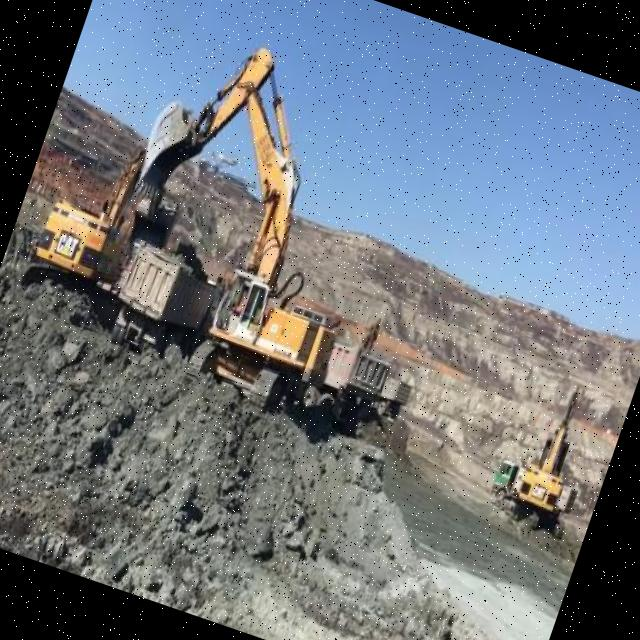Dump Truck: (106, 243, 215, 366), (312, 344, 388, 446), (485, 454, 519, 512), (379, 370, 416, 420)
Excavator: (75, 22, 417, 436), (17, 115, 150, 308), (501, 373, 600, 544)
